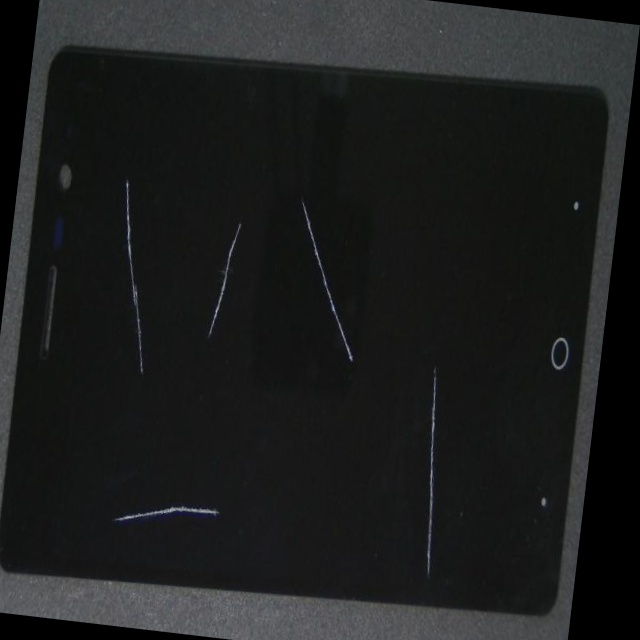scratch: (94, 0, 487, 415), (154, 226, 375, 640), (22, 0, 211, 395)
